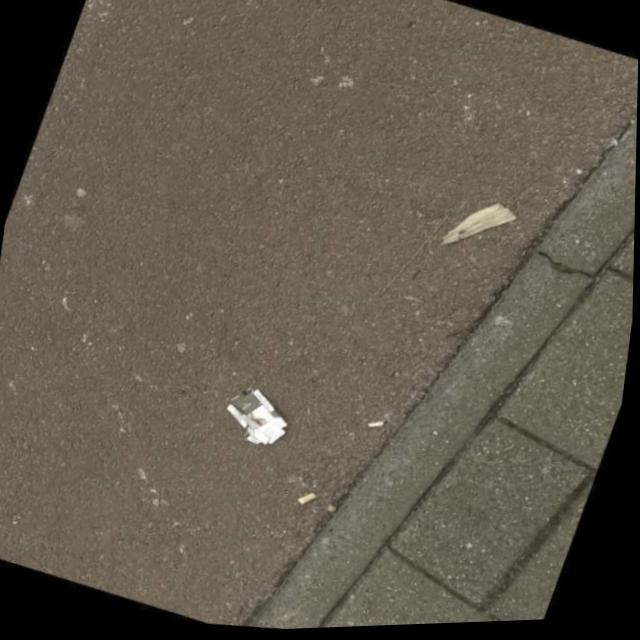Paper: (223, 384, 294, 450), (440, 199, 520, 256)
